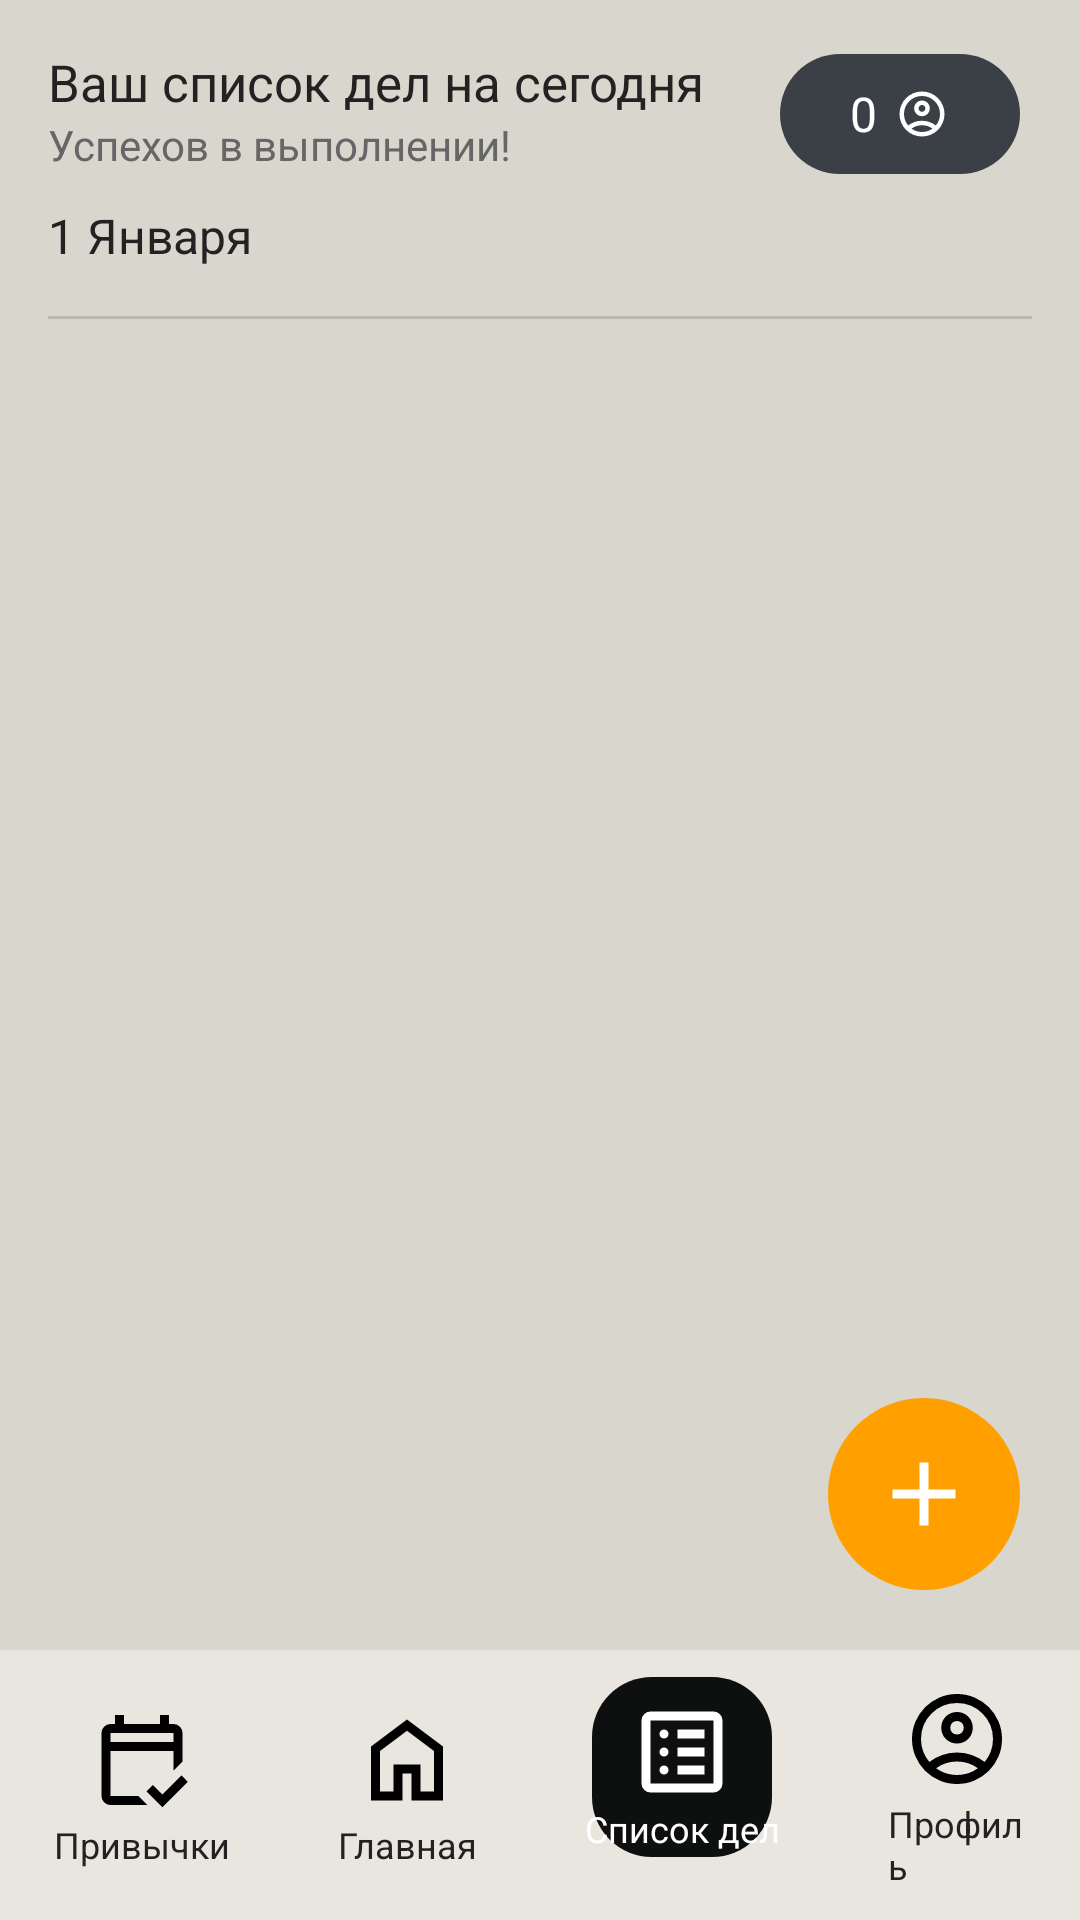

Icon bounding boxes for this 1080 x 1920 phone screenshot, format [left=x1, top=y1, right=x2, bottom=y2]:
calendar: [left=101, top=1715, right=188, bottom=1807]
plus: [left=828, top=1398, right=1020, bottom=1590]
